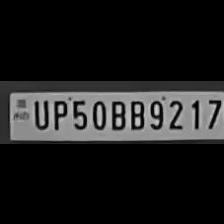0: (89, 96, 107, 130)
1: (186, 97, 202, 129)
2: (164, 96, 186, 130)
5: (68, 96, 88, 130)
7: (202, 96, 222, 130)
9: (145, 97, 163, 129)
B: (108, 97, 126, 130), (127, 97, 145, 129)
P: (48, 96, 68, 130)
U: (29, 96, 48, 130)
